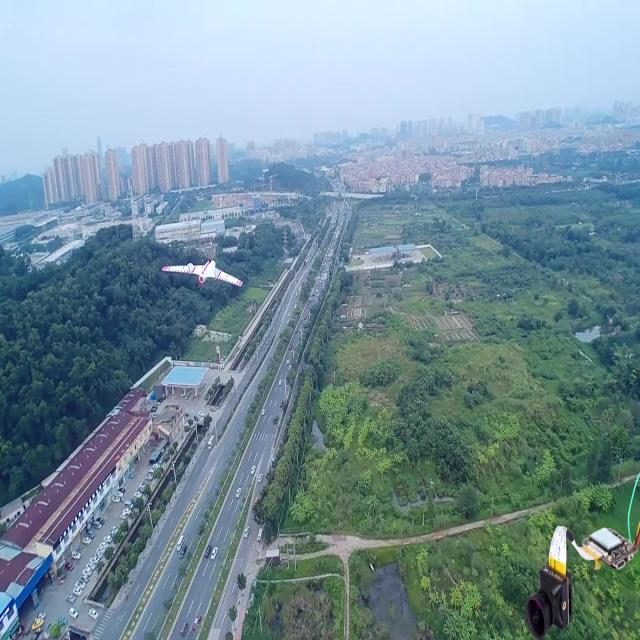iha: (187, 258, 206, 288)
